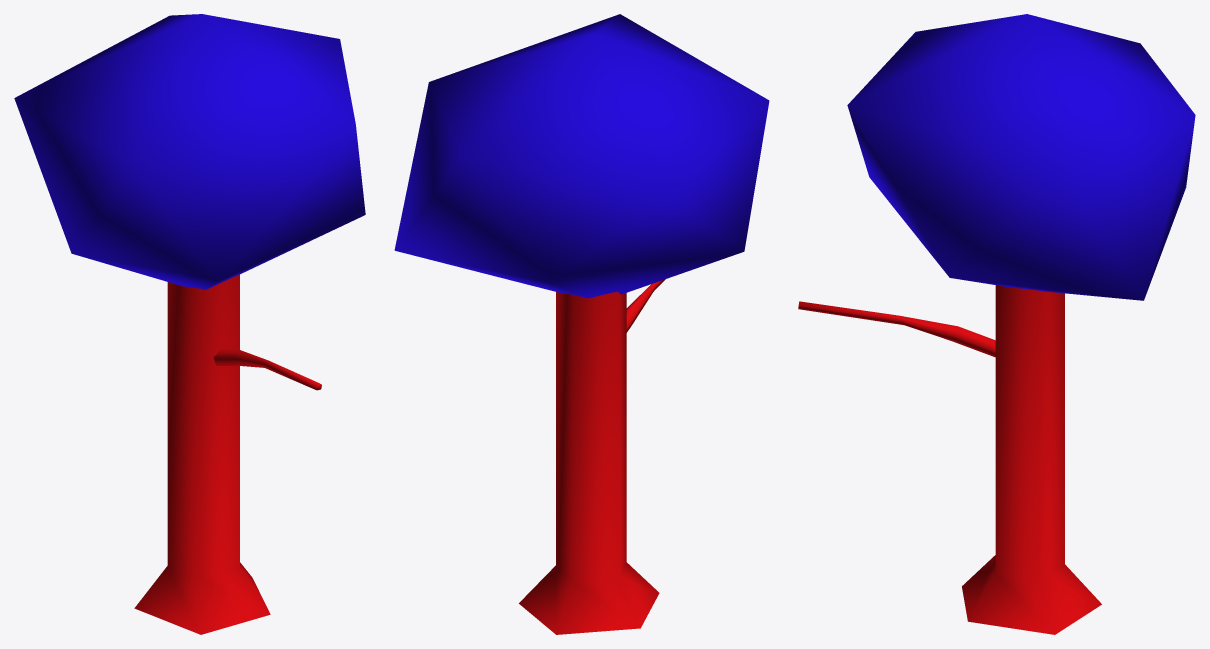
Rendered from baobab.fbx.
3 views of the same model, side by side, from view 1: azimuth 30°, elevation 25°; view 2: azimuth 150°, elevation 25°; view 3: azimuth 270°, elevation 25° (orthographic). The views are drawn at different scales.
Visible parts, largest first — view 1: baobab; view 2: baobab; view 3: baobab.
Boxes of the visible parts, <box> form: baobab: <box>14,14,365,634</box>; baobab: <box>394,14,769,634</box>; baobab: <box>798,14,1195,634</box>.
Bounding box in the file's own units: 239 × 454 × 277.
